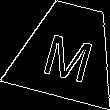M_N: (38, 20, 97, 81)
